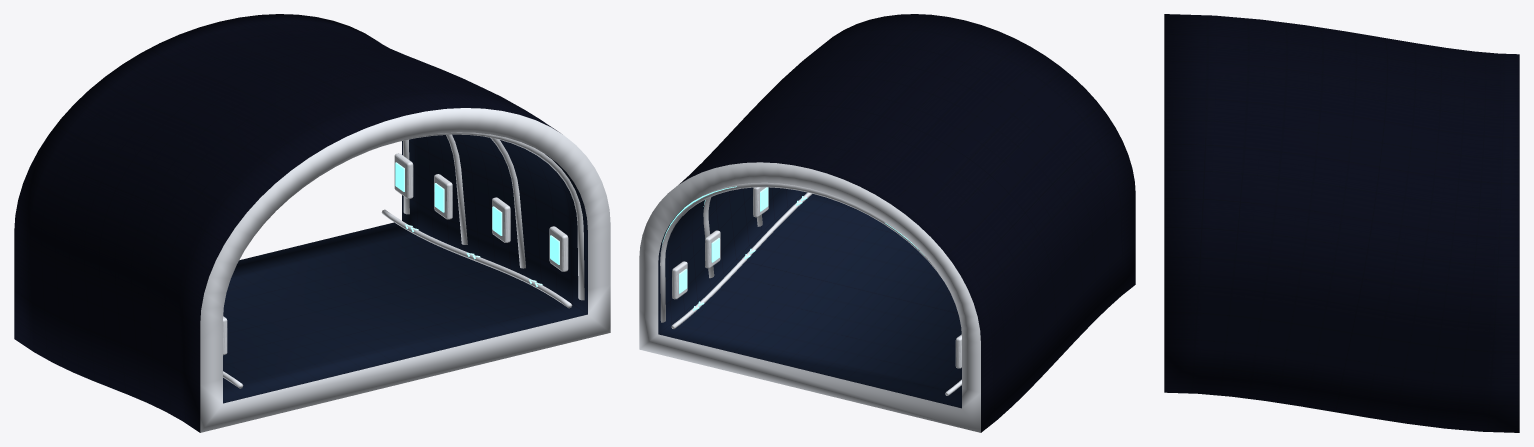
File: grade_down.glb
The picture shows the model from 3 angles, left to right: view 1: azimuth 30°, elevation 25°; view 2: azimuth 150°, elevation 25°; view 3: azimuth 270°, elevation 25°; orthographic projection. The views are drawn at different scales.
Visible parts, largest first — view 1: TunnelGeometry; view 2: TunnelGeometry; view 3: TunnelGeometry.
Boxes of the visible parts, bbox=[...] form: TunnelGeometry: bbox=[14, 14, 610, 432]; TunnelGeometry: bbox=[639, 14, 1135, 432]; TunnelGeometry: bbox=[1164, 14, 1519, 432].
Size of the model in its own units: 15.3 by 11.02 by 12.
4 materials, 2 textured.
